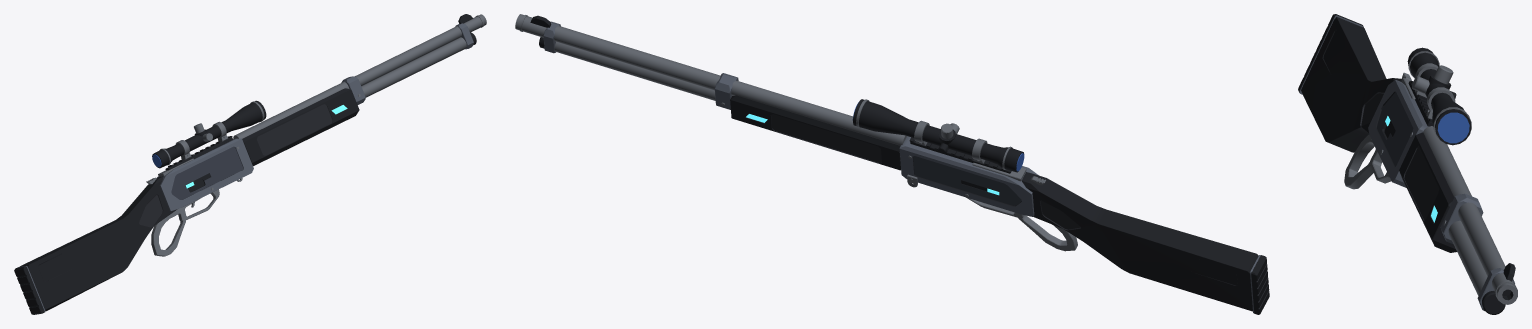
The model's file is Marshal.fbx.
3 renders of one model, left to right at view 1: azimuth 30°, elevation 25°; view 2: azimuth 150°, elevation 25°; view 3: azimuth 270°, elevation 25°, orthographic. The views are drawn at different scales.
Visible parts, largest first — view 1: Stock_Dark, Barrel_Metal, ForeEnd_Dark, Receiver_Panel, ForeEnd_Grip, Receiver_Body, Scope_Dark, Lever, Stock_Grip, Scope_Metal, Receiver_Dark, Barrel_Panel; view 2: Stock_Dark, Barrel_Metal, Scope_Dark, Receiver_Panel, ForeEnd_Dark, Receiver_Body, ForeEnd_Grip, Lever, Barrel_Panel, Scope_Metal, Receiver_Dark, Stock_Grip; view 3: Stock_Dark, Barrel_Metal, ForeEnd_Dark, Receiver_Panel, Scope_Dark, ForeEnd_Grip, Receiver_Body, Lever, Scope_Metal, Barrel_Panel, ScopeLens, Barrel_Dark (+3 smaller).
Boxes of the visible parts, left/top/right/bottom form: Stock_Dark: left=14, top=176, right=176, bottom=314; Barrel_Metal: left=233, top=14, right=486, bottom=138; ForeEnd_Dark: left=242, top=88, right=359, bottom=166; Receiver_Panel: left=157, top=138, right=253, bottom=211; ForeEnd_Grip: left=257, top=104, right=348, bottom=155; Receiver_Body: left=171, top=146, right=243, bottom=199; Scope_Dark: left=152, top=100, right=266, bottom=168; Lever: left=151, top=189, right=219, bottom=256; Stock_Grip: left=17, top=194, right=162, bottom=307; Scope_Metal: left=159, top=101, right=264, bottom=165; Receiver_Dark: left=165, top=136, right=243, bottom=199; Barrel_Panel: left=341, top=23, right=473, bottom=104; Stock_Dark: left=1021, top=172, right=1269, bottom=314; Barrel_Metal: left=515, top=14, right=906, bottom=145; Scope_Dark: left=853, top=99, right=1023, bottom=172; Receiver_Panel: left=899, top=136, right=1038, bottom=216; ForeEnd_Dark: left=730, top=95, right=900, bottom=170; Receiver_Body: left=913, top=156, right=1021, bottom=205; ForeEnd_Grip: left=745, top=113, right=881, bottom=163; Lever: left=966, top=197, right=1077, bottom=251; Barrel_Panel: left=543, top=21, right=738, bottom=109; Scope_Metal: left=856, top=99, right=1012, bottom=169; Receiver_Dark: left=909, top=137, right=1021, bottom=206; Stock_Grip: left=1039, top=200, right=1268, bottom=309; Stock_Dark: left=1298, top=14, right=1402, bottom=152; Barrel_Metal: left=1423, top=126, right=1517, bottom=304; ForeEnd_Dark: left=1399, top=132, right=1456, bottom=252; Receiver_Panel: left=1368, top=80, right=1428, bottom=187; Scope_Dark: left=1407, top=47, right=1471, bottom=145; ForeEnd_Grip: left=1403, top=146, right=1439, bottom=223; Receiver_Body: left=1377, top=92, right=1413, bottom=166; Lever: left=1344, top=134, right=1391, bottom=189; Scope_Metal: left=1408, top=51, right=1471, bottom=141; Barrel_Panel: left=1440, top=193, right=1514, bottom=310; ScopeLens: left=1437, top=112, right=1469, bottom=143; Barrel_Dark: left=1482, top=263, right=1515, bottom=314.
Bounding box in the file's own units: 4.34 × 1.17 × 0.9244.
